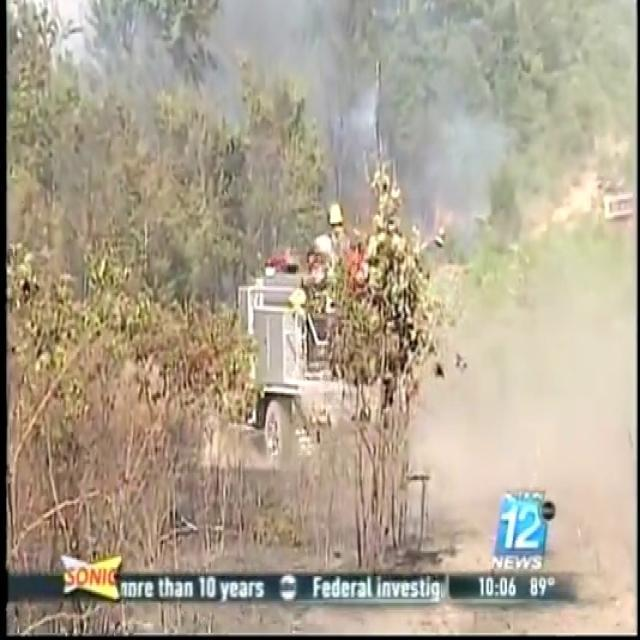Smoke: (322, 2, 514, 268)
